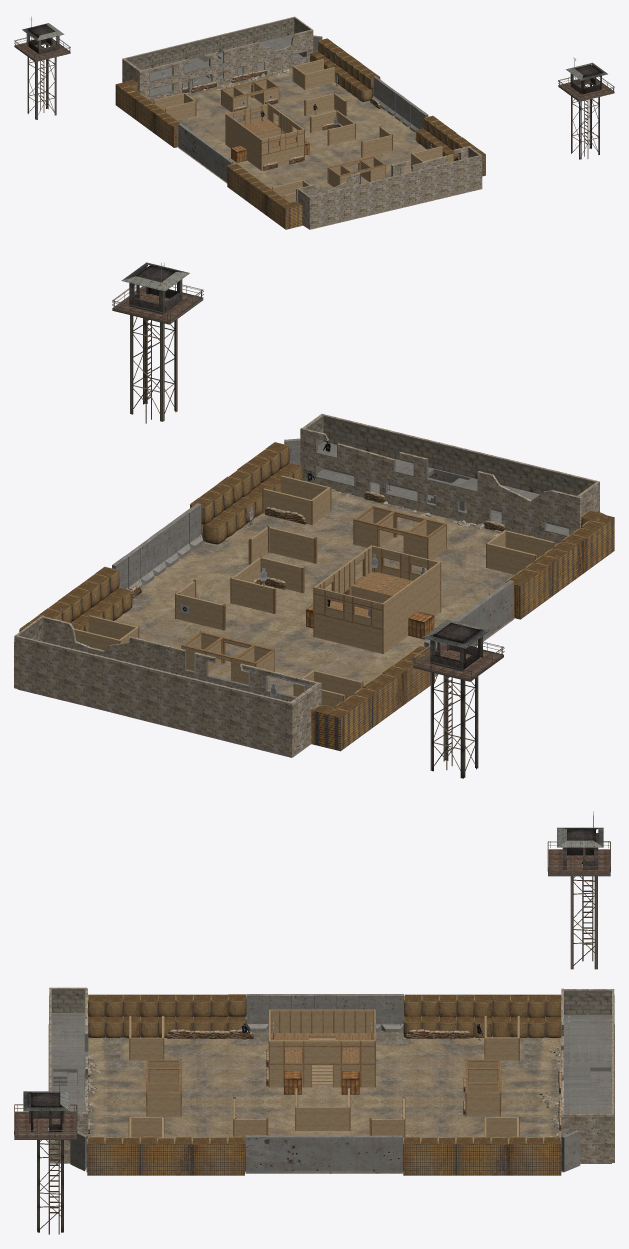
File: map.glb
3 views of the same model, one above another, from view 1: azimuth 30°, elevation 25°; view 2: azimuth 150°, elevation 25°; view 3: azimuth 270°, elevation 25° (orthographic). The views are drawn at different scales.
Parts seen in each view (by area): view 1: TO_TO_Ground_0_2, TO_Props_D_0_1, TO_Arch16_0_0, TO_Wood_OldKnotty_2k_alb_0_3; view 2: TO_TO_Ground_0_2, TO_Props_D_0_1, TO_Arch16_0_0, TO_Wood_OldKnotty_2k_alb_0_3; view 3: TO_Props_D_0_1, TO_TO_Ground_0_2, TO_Wood_OldKnotty_2k_alb_0_3, TO_Arch16_0_0.
Part boxes in pixels (box(x1,y1,x2,y2)): TO_TO_Ground_0_2: box(125, 17, 478, 198); TO_Props_D_0_1: box(14, 17, 614, 229); TO_Arch16_0_0: box(122, 16, 482, 229); TO_Wood_OldKnotty_2k_alb_0_3: box(154, 59, 453, 202); TO_TO_Ground_0_2: box(17, 415, 595, 756); TO_Props_D_0_1: box(19, 262, 614, 778); TO_Arch16_0_0: box(14, 414, 599, 757); TO_Wood_OldKnotty_2k_alb_0_3: box(74, 475, 554, 707); TO_Props_D_0_1: box(14, 811, 610, 1234); TO_TO_Ground_0_2: box(51, 988, 611, 1172); TO_Wood_OldKnotty_2k_alb_0_3: box(129, 1009, 519, 1138); TO_Arch16_0_0: box(48, 987, 614, 1163).
Bounding box in the file's own units: 83.78 × 22.06 × 72.73.
Materials: 4 (4 with a texture image).
